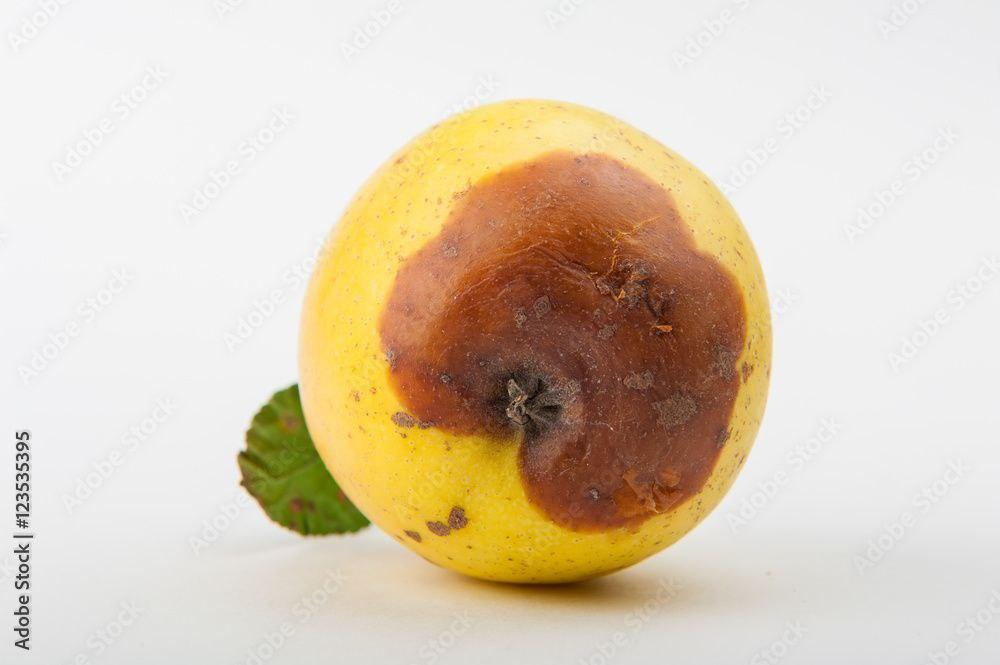Apple: (296, 98, 772, 585)
